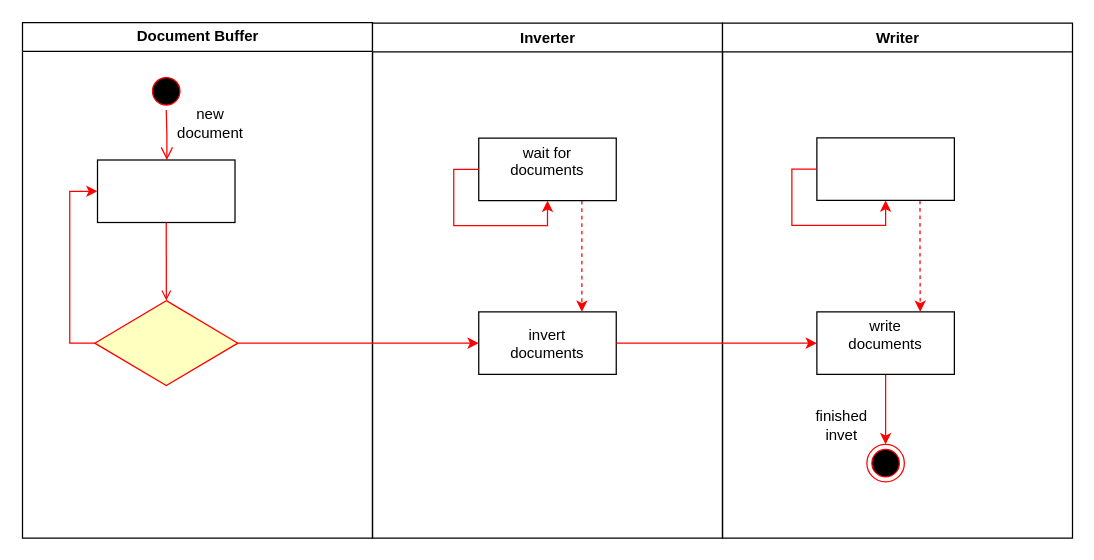
The diagram is 1094 pixels wide and 560 high, and some of its shapes have lost their labels. The centre of each missing label's shape, as x and y in pixels:
add document to buffer: point 165,190
is buffer fill: point 166,342
wait for mappings: point 885,168
